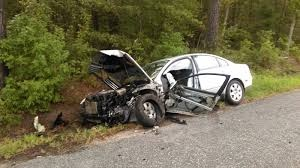Smashed: (78, 73, 173, 124)
